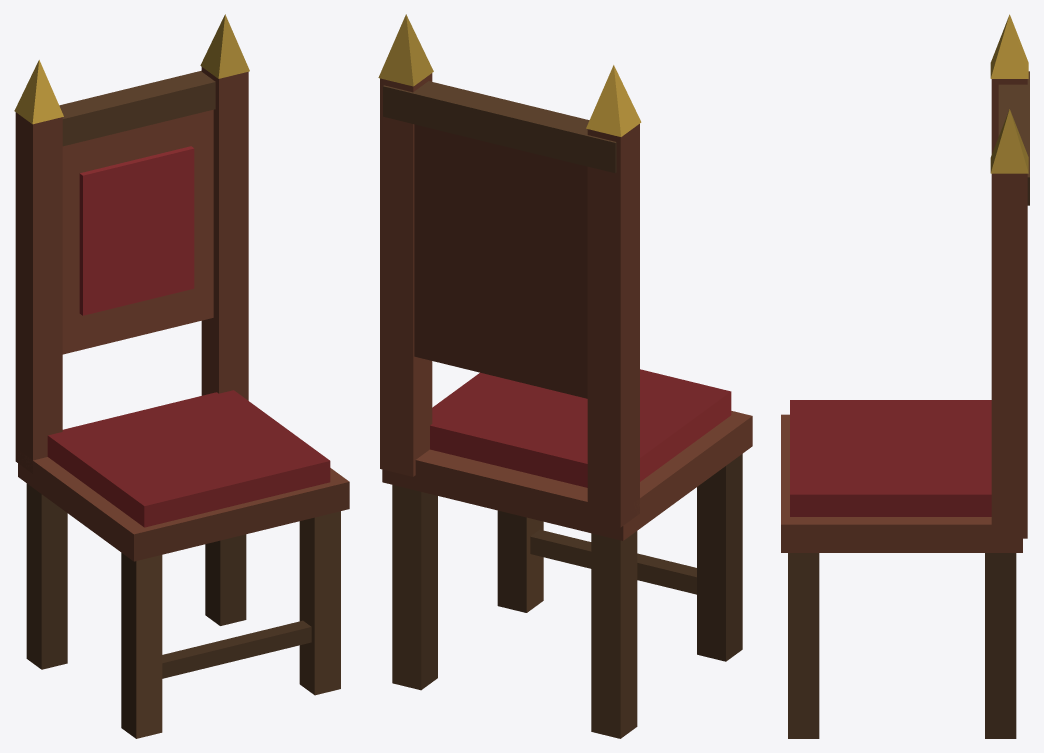
File: castle_chair.glb
3 views of the same model, side by side, from view 1: azimuth 30°, elevation 25°; view 2: azimuth 150°, elevation 25°; view 3: azimuth 270°, elevation 25° (orthographic). The views are drawn at different scales.
Visible parts, largest first — view 1: castle_chair; view 2: castle_chair; view 3: castle_chair.
Part boxes in pixels (x1,y1,x2,y2): castle_chair: [14, 14, 349, 738]; castle_chair: [378, 14, 752, 738]; castle_chair: [781, 14, 1029, 738].
Bounding box in the file's own units: 0.5849 × 1.54 × 0.555.
